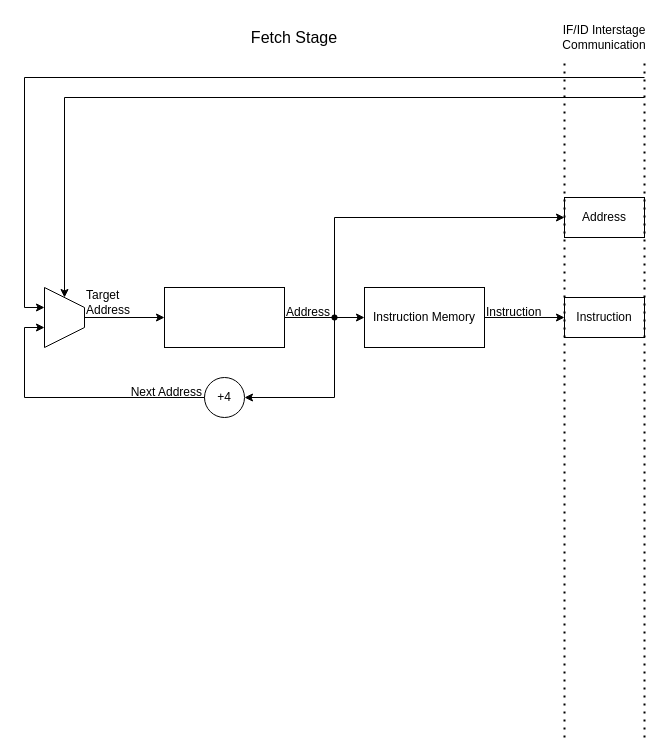
Some shapes in this 670 by 756 pixel diagram are drawn without their labels. The shapes that lost their labels are listed below. From the top down, each one's centre as x and y in pixels, then its label:
[64,317]: Address Select
[224,317]: Program Counter
